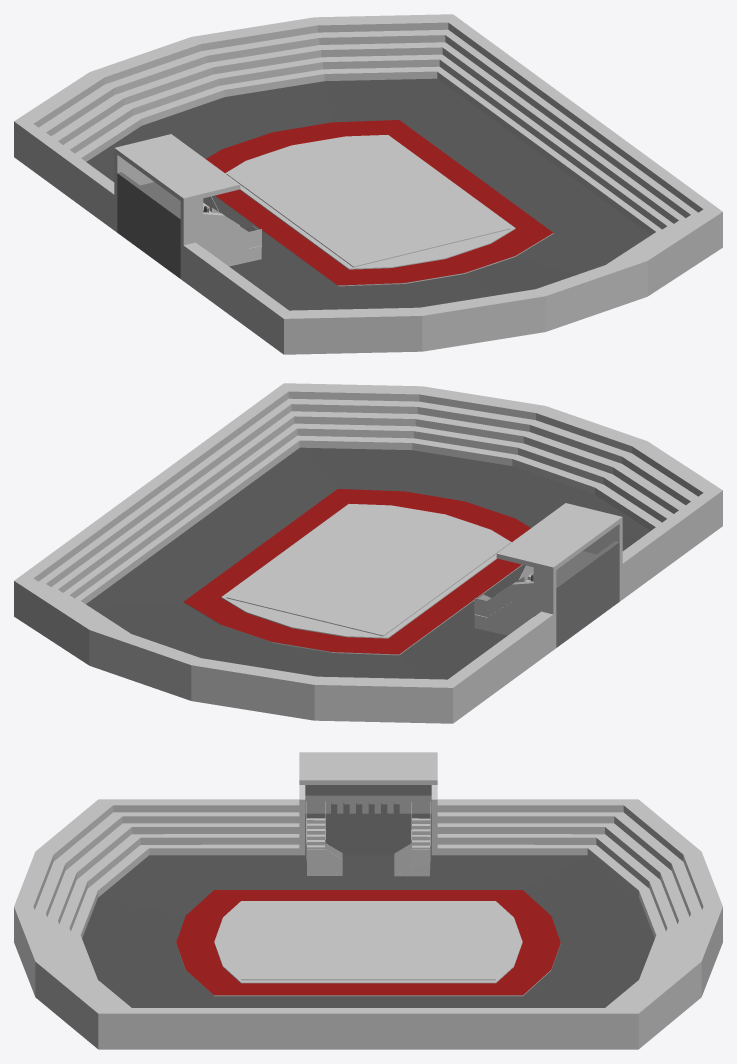
File: 운동장.fbx
3 views of the same model, one above another, from view 1: azimuth 30°, elevation 25°; view 2: azimuth 150°, elevation 25°; view 3: azimuth 270°, elevation 25° (orthographic).
Parts seen in each view (by area): view 1: OilTank001, Plane001, Object001; view 2: OilTank001, Plane001, Object001; view 3: OilTank001, Plane001, Object001.
Part boxes in pixels (x1,y1,x2,y2): OilTank001: (14,14,722,354); Plane001: (226,135,510,267); Object001: (203,196,261,266); OilTank001: (14,383,722,723); Plane001: (226,504,510,636); Object001: (474,565,533,635); OilTank001: (14,752,722,1049); Plane001: (241,902,495,980); Object001: (306,801,430,876).
Size of the model in its own units: 247 by 45.16 by 345.
